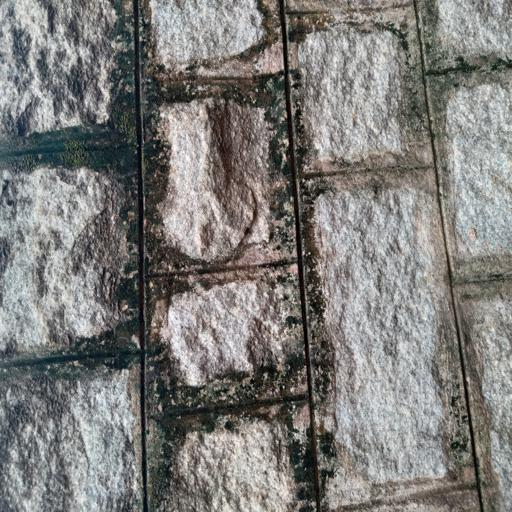algae: (3, 37, 379, 510)
